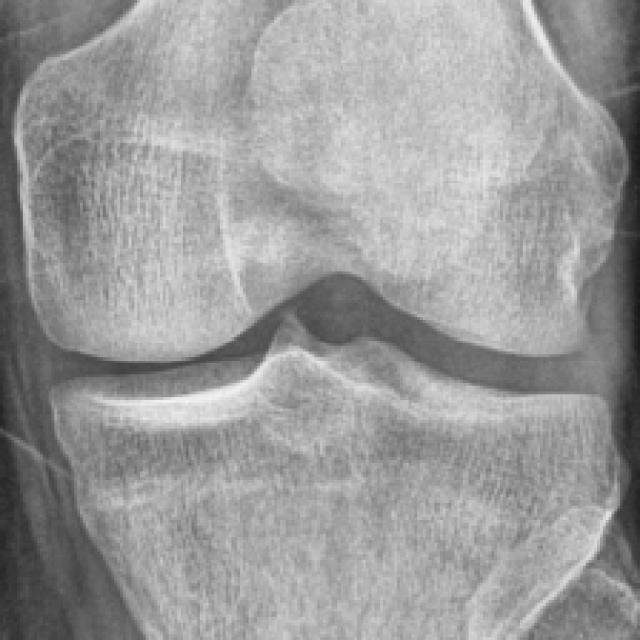femur: (11, 0, 629, 364)
tibia: (57, 318, 614, 637)
